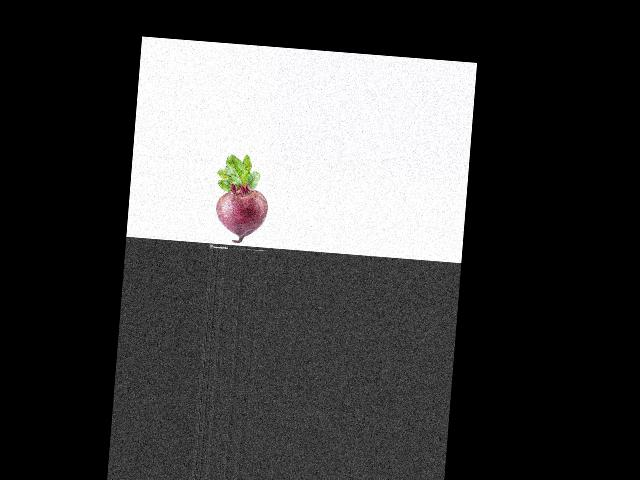beet: (212, 152, 272, 244)
